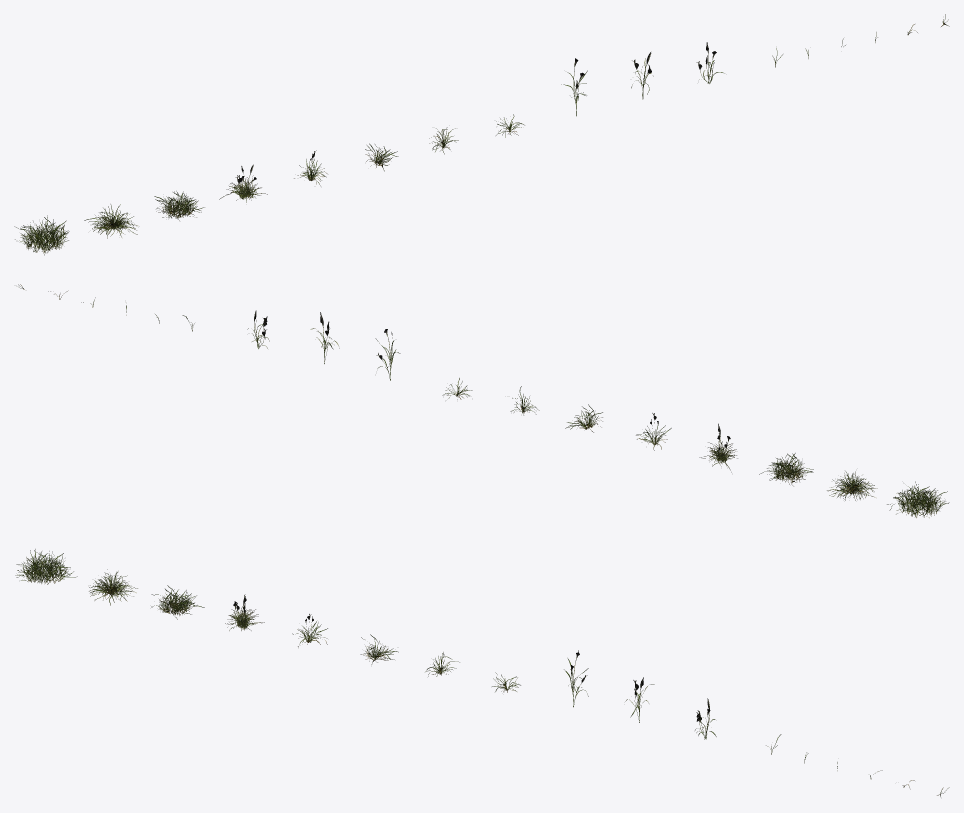
File: pasto.glb
3 views of the same model, one above another, from view 1: azimuth 30°, elevation 25°; view 2: azimuth 150°, elevation 25°; view 3: azimuth 330°, elevation 25° (orthographic).
Parts seen in each view (by area): view 1: grass_medium_01_large_a_LOD0, grass_medium_01_large_c_LOD0, grass_medium_01_large_b_LOD0; view 2: grass_medium_01_large_a_LOD0, grass_medium_01_large_c_LOD0, grass_medium_01_large_b_LOD0; view 3: grass_medium_01_large_a_LOD0, grass_medium_01_large_b_LOD0, grass_medium_01_large_c_LOD0.
Part boxes in pixels (bbox=[...]): grass_medium_01_large_a_LOD0: bbox=[14, 215, 69, 255]; grass_medium_01_large_c_LOD0: bbox=[154, 191, 204, 220]; grass_medium_01_large_b_LOD0: bbox=[84, 204, 137, 238]; grass_medium_01_large_a_LOD0: bbox=[887, 481, 949, 517]; grass_medium_01_large_c_LOD0: bbox=[759, 453, 813, 486]; grass_medium_01_large_b_LOD0: bbox=[827, 471, 877, 500]; grass_medium_01_large_a_LOD0: bbox=[15, 549, 77, 584]; grass_medium_01_large_b_LOD0: bbox=[89, 569, 137, 605]; grass_medium_01_large_c_LOD0: bbox=[151, 585, 204, 619].
Size of the model in its own units: 5.6 by 0.3426 by 0.3266.
1 material, 1 textured.
